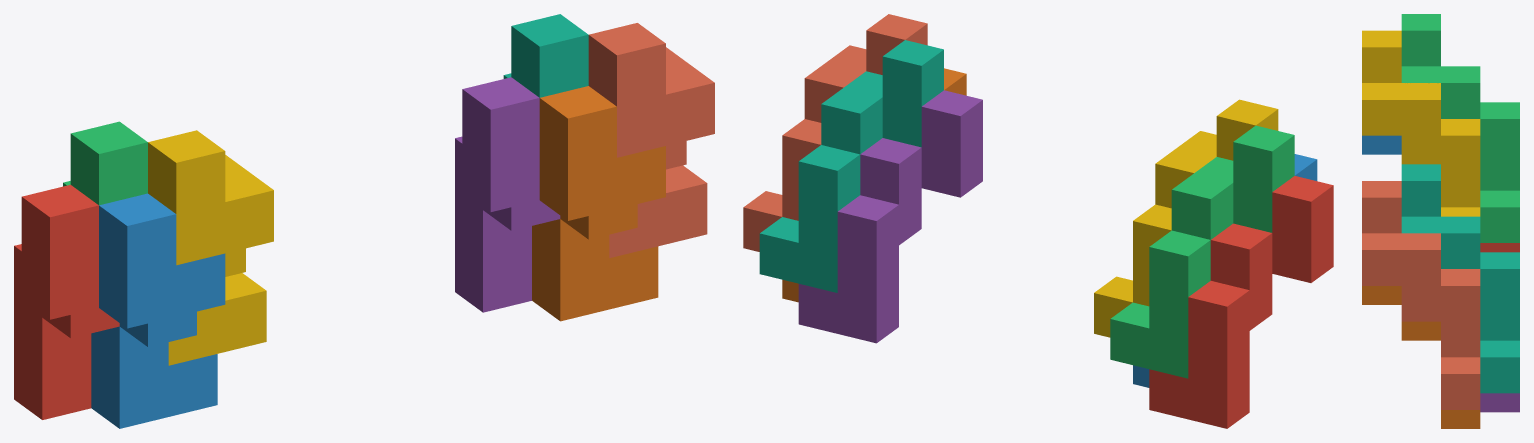
The model's file is tiling.obj.
3 views of the same model, side by side, from view 1: azimuth 30°, elevation 25°; view 2: azimuth 150°, elevation 25°; view 3: azimuth 270°, elevation 25° (orthographic). The views are drawn at different scales.
Visible parts, largest first — view 1: copy_1_domain_6, copy_1_domain_2, copy_1_domain_1, copy_1_domain_5, copy_1_domain_8, copy_1_domain_4, copy_1_domain_7, copy_1_domain_3; view 2: copy_1_domain_1, copy_1_domain_5, copy_1_domain_3, copy_1_domain_7, copy_1_domain_8, copy_1_domain_4, copy_1_domain_2, copy_1_domain_6; view 3: copy_1_domain_8, copy_1_domain_4, copy_1_domain_7, copy_1_domain_3, copy_1_domain_6, copy_1_domain_2, copy_1_domain_5, copy_1_domain_1.
Boxes of the visible parts, x1,y1,x2,y2 form: copy_1_domain_6: (532,86,665,321); copy_1_domain_2: (91,193,225,428); copy_1_domain_1: (14,184,119,419); copy_1_domain_5: (455,77,560,312); copy_1_domain_8: (588,23,714,257); copy_1_domain_4: (148,130,273,365); copy_1_domain_7: (503,14,588,97); copy_1_domain_3: (63,121,147,205); copy_1_domain_1: (1149,176,1333,428); copy_1_domain_5: (798,90,982,343); copy_1_domain_3: (1110,125,1294,378); copy_1_domain_7: (759,40,943,292); copy_1_domain_8: (743,14,927,251); copy_1_domain_4: (1094,99,1278,337); copy_1_domain_2: (1133,154,1317,387); copy_1_domain_6: (782,68,966,302); copy_1_domain_8: (1362,181,1480,409); copy_1_domain_4: (1362,30,1480,216); copy_1_domain_7: (1401,164,1519,393); copy_1_domain_3: (1401,14,1519,242); copy_1_domain_6: (1362,286,1480,428); copy_1_domain_2: (1362,135,1401,154); copy_1_domain_5: (1480,393,1519,412); copy_1_domain_1: (1480,243,1519,252).
Bounding box in the file's own units: 14 × 6 × 4.
